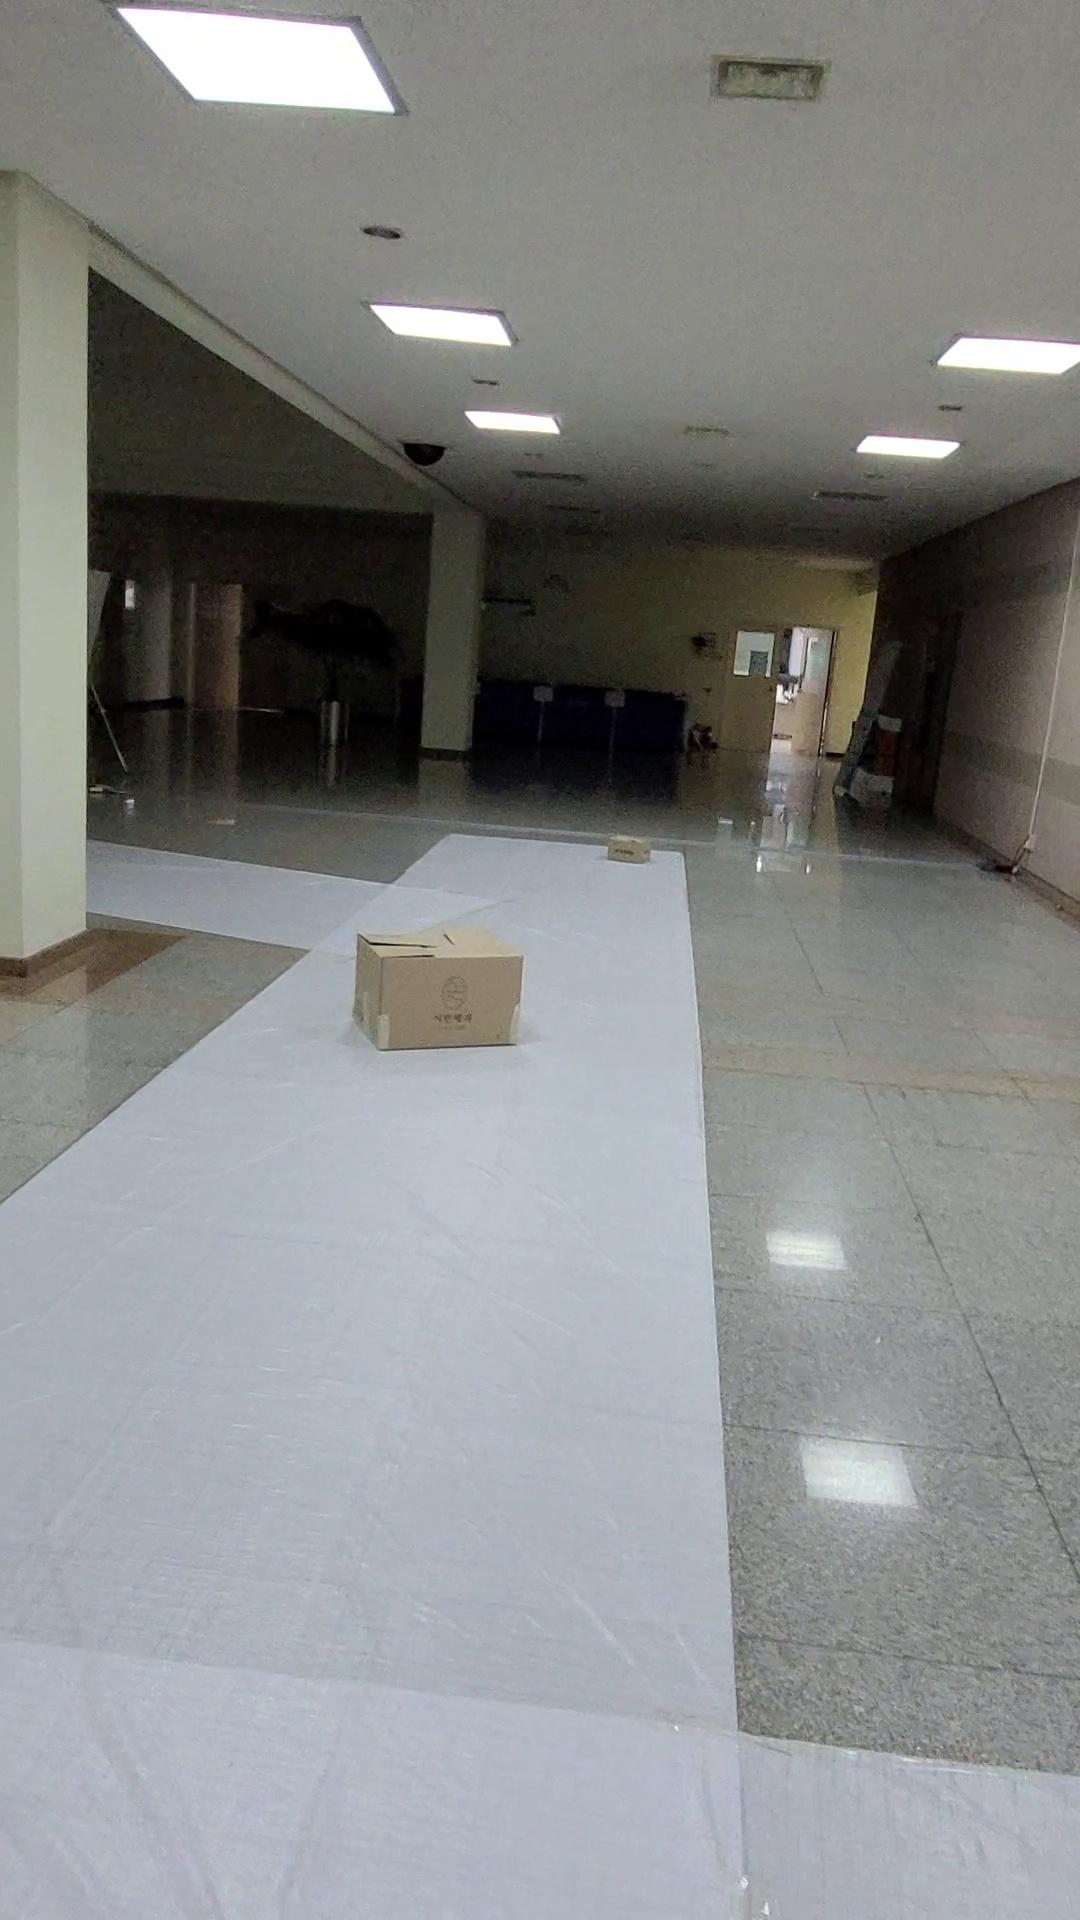Box: (309, 899, 560, 1095), (582, 810, 662, 882)
